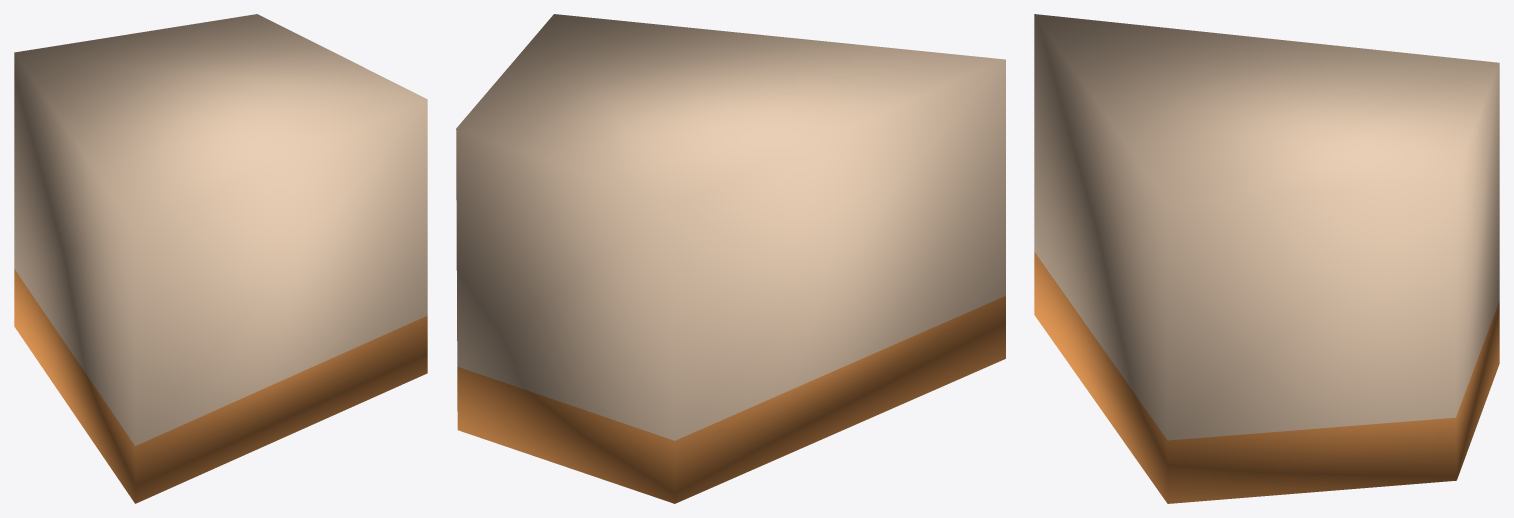
The model's file is Piekakera.dae.
The picture shows the model from 3 angles, left to right: view 1: azimuth 30°, elevation 25°; view 2: azimuth 150°, elevation 25°; view 3: azimuth 270°, elevation 25°; orthographic projection. The views are drawn at different scales.
Visible parts, largest first — view 1: Cube; view 2: Cube; view 3: Cube.
Part boxes in pixels (x1=…): Cube: x1=14, y1=14, x2=427, y2=503; Cube: x1=456, y1=14, x2=1005, y2=503; Cube: x1=1034, y1=14, x2=1499, y2=503.
Bounding box in the file's own units: 2.7 × 2.8 × 2.
